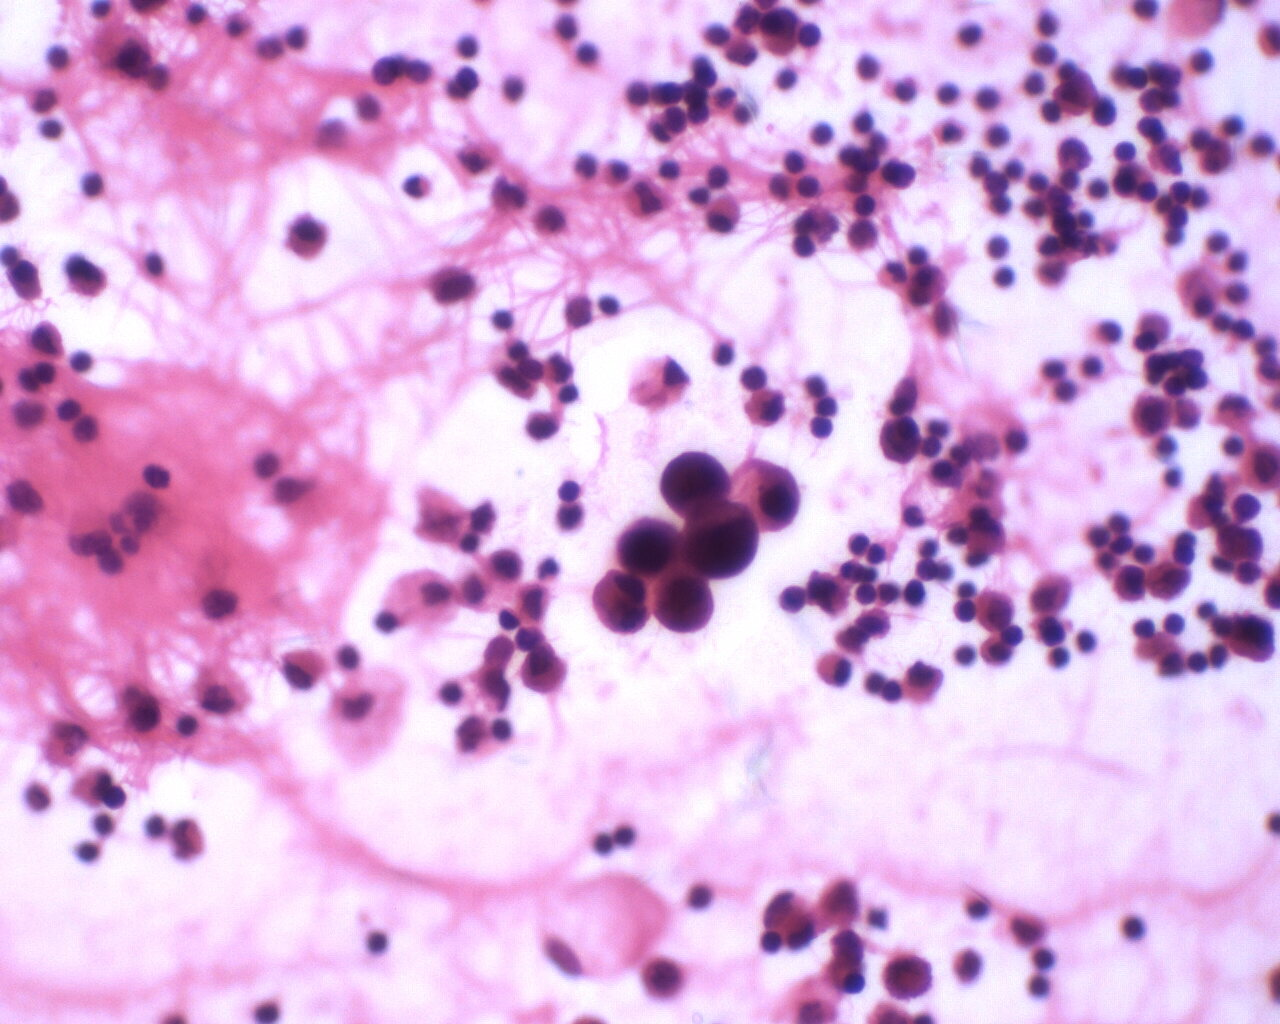ab: (680, 501, 760, 579), (657, 446, 734, 520), (649, 567, 719, 638), (613, 515, 686, 578), (971, 583, 1023, 634), (872, 415, 921, 465)
histo: (538, 869, 675, 982)
lymph: (735, 362, 771, 397), (793, 18, 827, 50), (845, 527, 872, 558), (805, 414, 832, 444)
